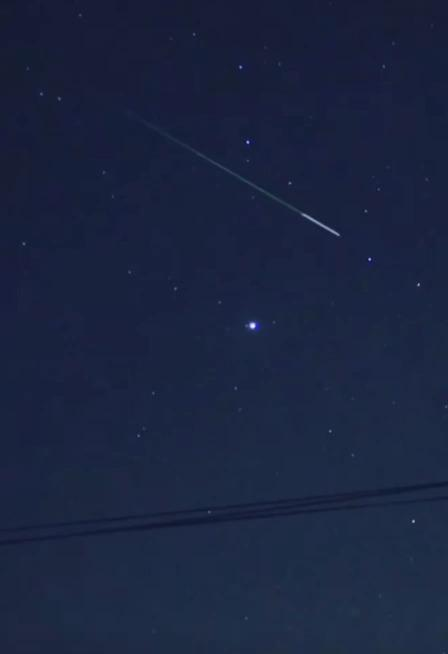meteorite: (114, 105, 362, 248)
